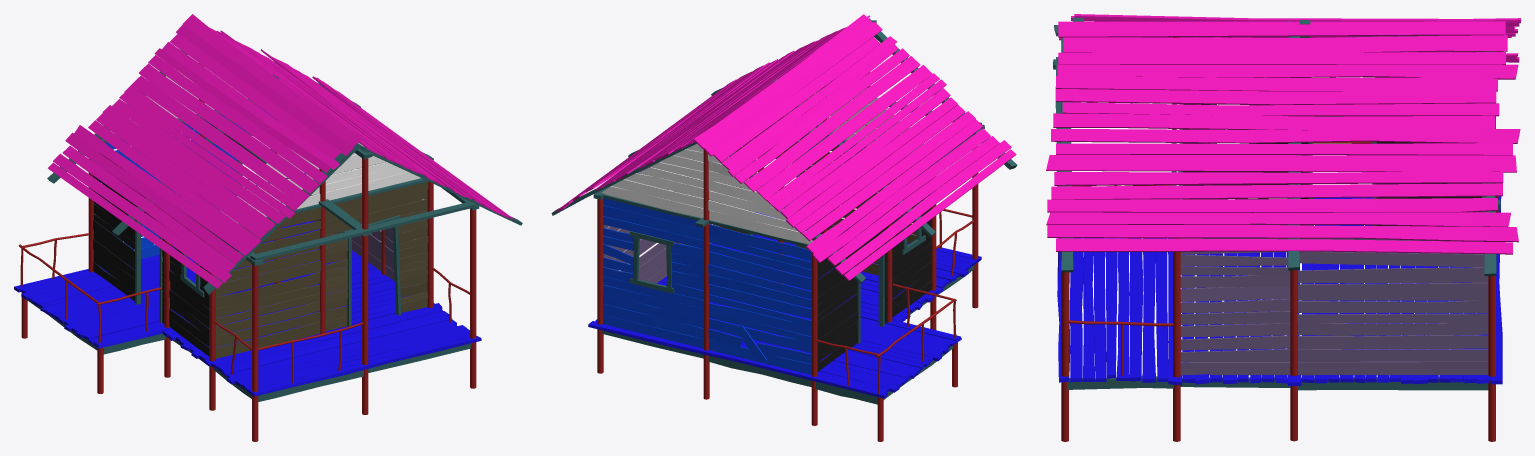
Rendered from medieval_wooden_house.fbx.
3 views of the same model, side by side, from view 1: azimuth 30°, elevation 25°; view 2: azimuth 150°, elevation 25°; view 3: azimuth 270°, elevation 25° (orthographic). The views are drawn at different scales.
Parts seen in each view (by area): view 1: roof, wall, floor, structure_1, structure_2; view 2: roof, wall, floor, structure_1, structure_2; view 3: roof, wall, floor, structure_1, structure_2.
Part boxes in pixels (<box>): roof: <box>48,14,512,288</box>; wall: <box>92,48,428,358</box>; floor: <box>14,221,481,396</box>; structure_1: <box>19,63,476,441</box>; structure_2: <box>27,50,522,401</box>; roof: <box>556,14,1016,280</box>; wall: <box>601,85,932,374</box>; floor: <box>588,212,981,398</box>; structure_1: <box>597,72,978,441</box>; structure_2: <box>551,18,1017,404</box>; roof: <box>1046,14,1520,254</box>; wall: <box>1176,77,1497,375</box>; floor: <box>1057,196,1502,386</box>; structure_1: <box>1060,37,1498,441</box>; structure_2: <box>1053,17,1500,390</box>.
Bounding box in the file's own units: 763 × 582 × 700.
